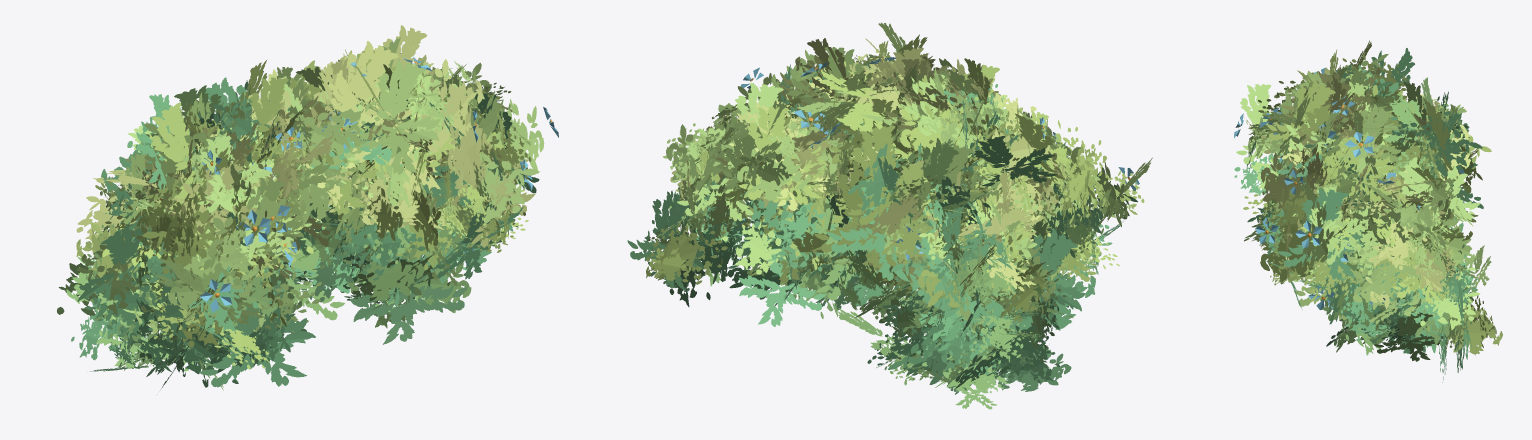
Rendered from Hedge_03_Flower_Blue.glb.
The picture shows the model from 3 angles, left to right: view 1: azimuth 30°, elevation 25°; view 2: azimuth 150°, elevation 25°; view 3: azimuth 270°, elevation 25°; orthographic projection. The views are drawn at different scales.
Visible parts, largest first — view 1: Hedge_03_Flower_Blue; view 2: Hedge_03_Flower_Blue; view 3: Hedge_03_Flower_Blue.
Part boxes in pixels (x1,y1,x2,y2): Hedge_03_Flower_Blue: (57, 25, 558, 390); Hedge_03_Flower_Blue: (627, 22, 1152, 409); Hedge_03_Flower_Blue: (1234, 40, 1502, 382).
Size of the model in its own units: 2.74 by 1.74 by 1.78.
Materials: 8 (6 with a texture image).
